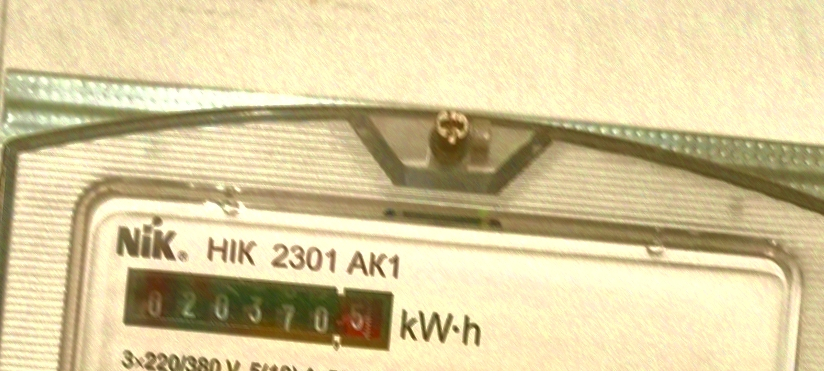0: (310, 303, 330, 334), (144, 286, 163, 316), (212, 290, 229, 319)
2: (177, 287, 198, 320)
3: (244, 292, 263, 323)
5: (346, 299, 367, 332)
7: (277, 301, 294, 332)
screen: (114, 260, 401, 359)
